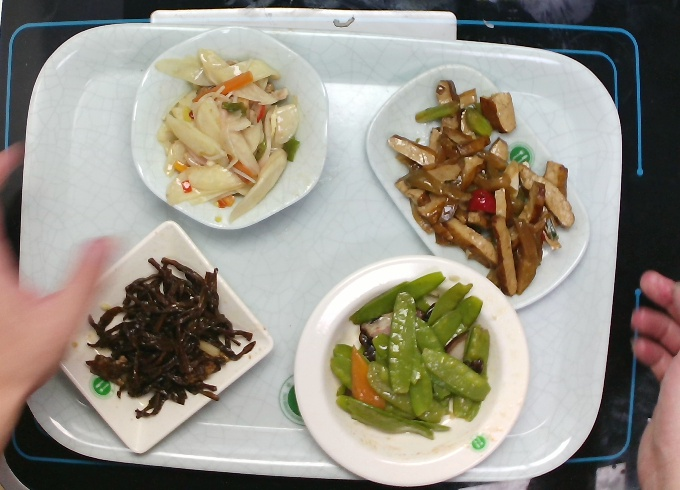WCQzf-Bai_Se_Si_Fang_Die: (52, 218, 275, 455)
WCQzf-Hua_Duo_Wan: (129, 24, 331, 233)
WCQzf-Kuan_Bian_Yuan_Die: (292, 254, 531, 489)
WCQzf-Tuo_Yuan_Pan: (363, 63, 591, 312)
